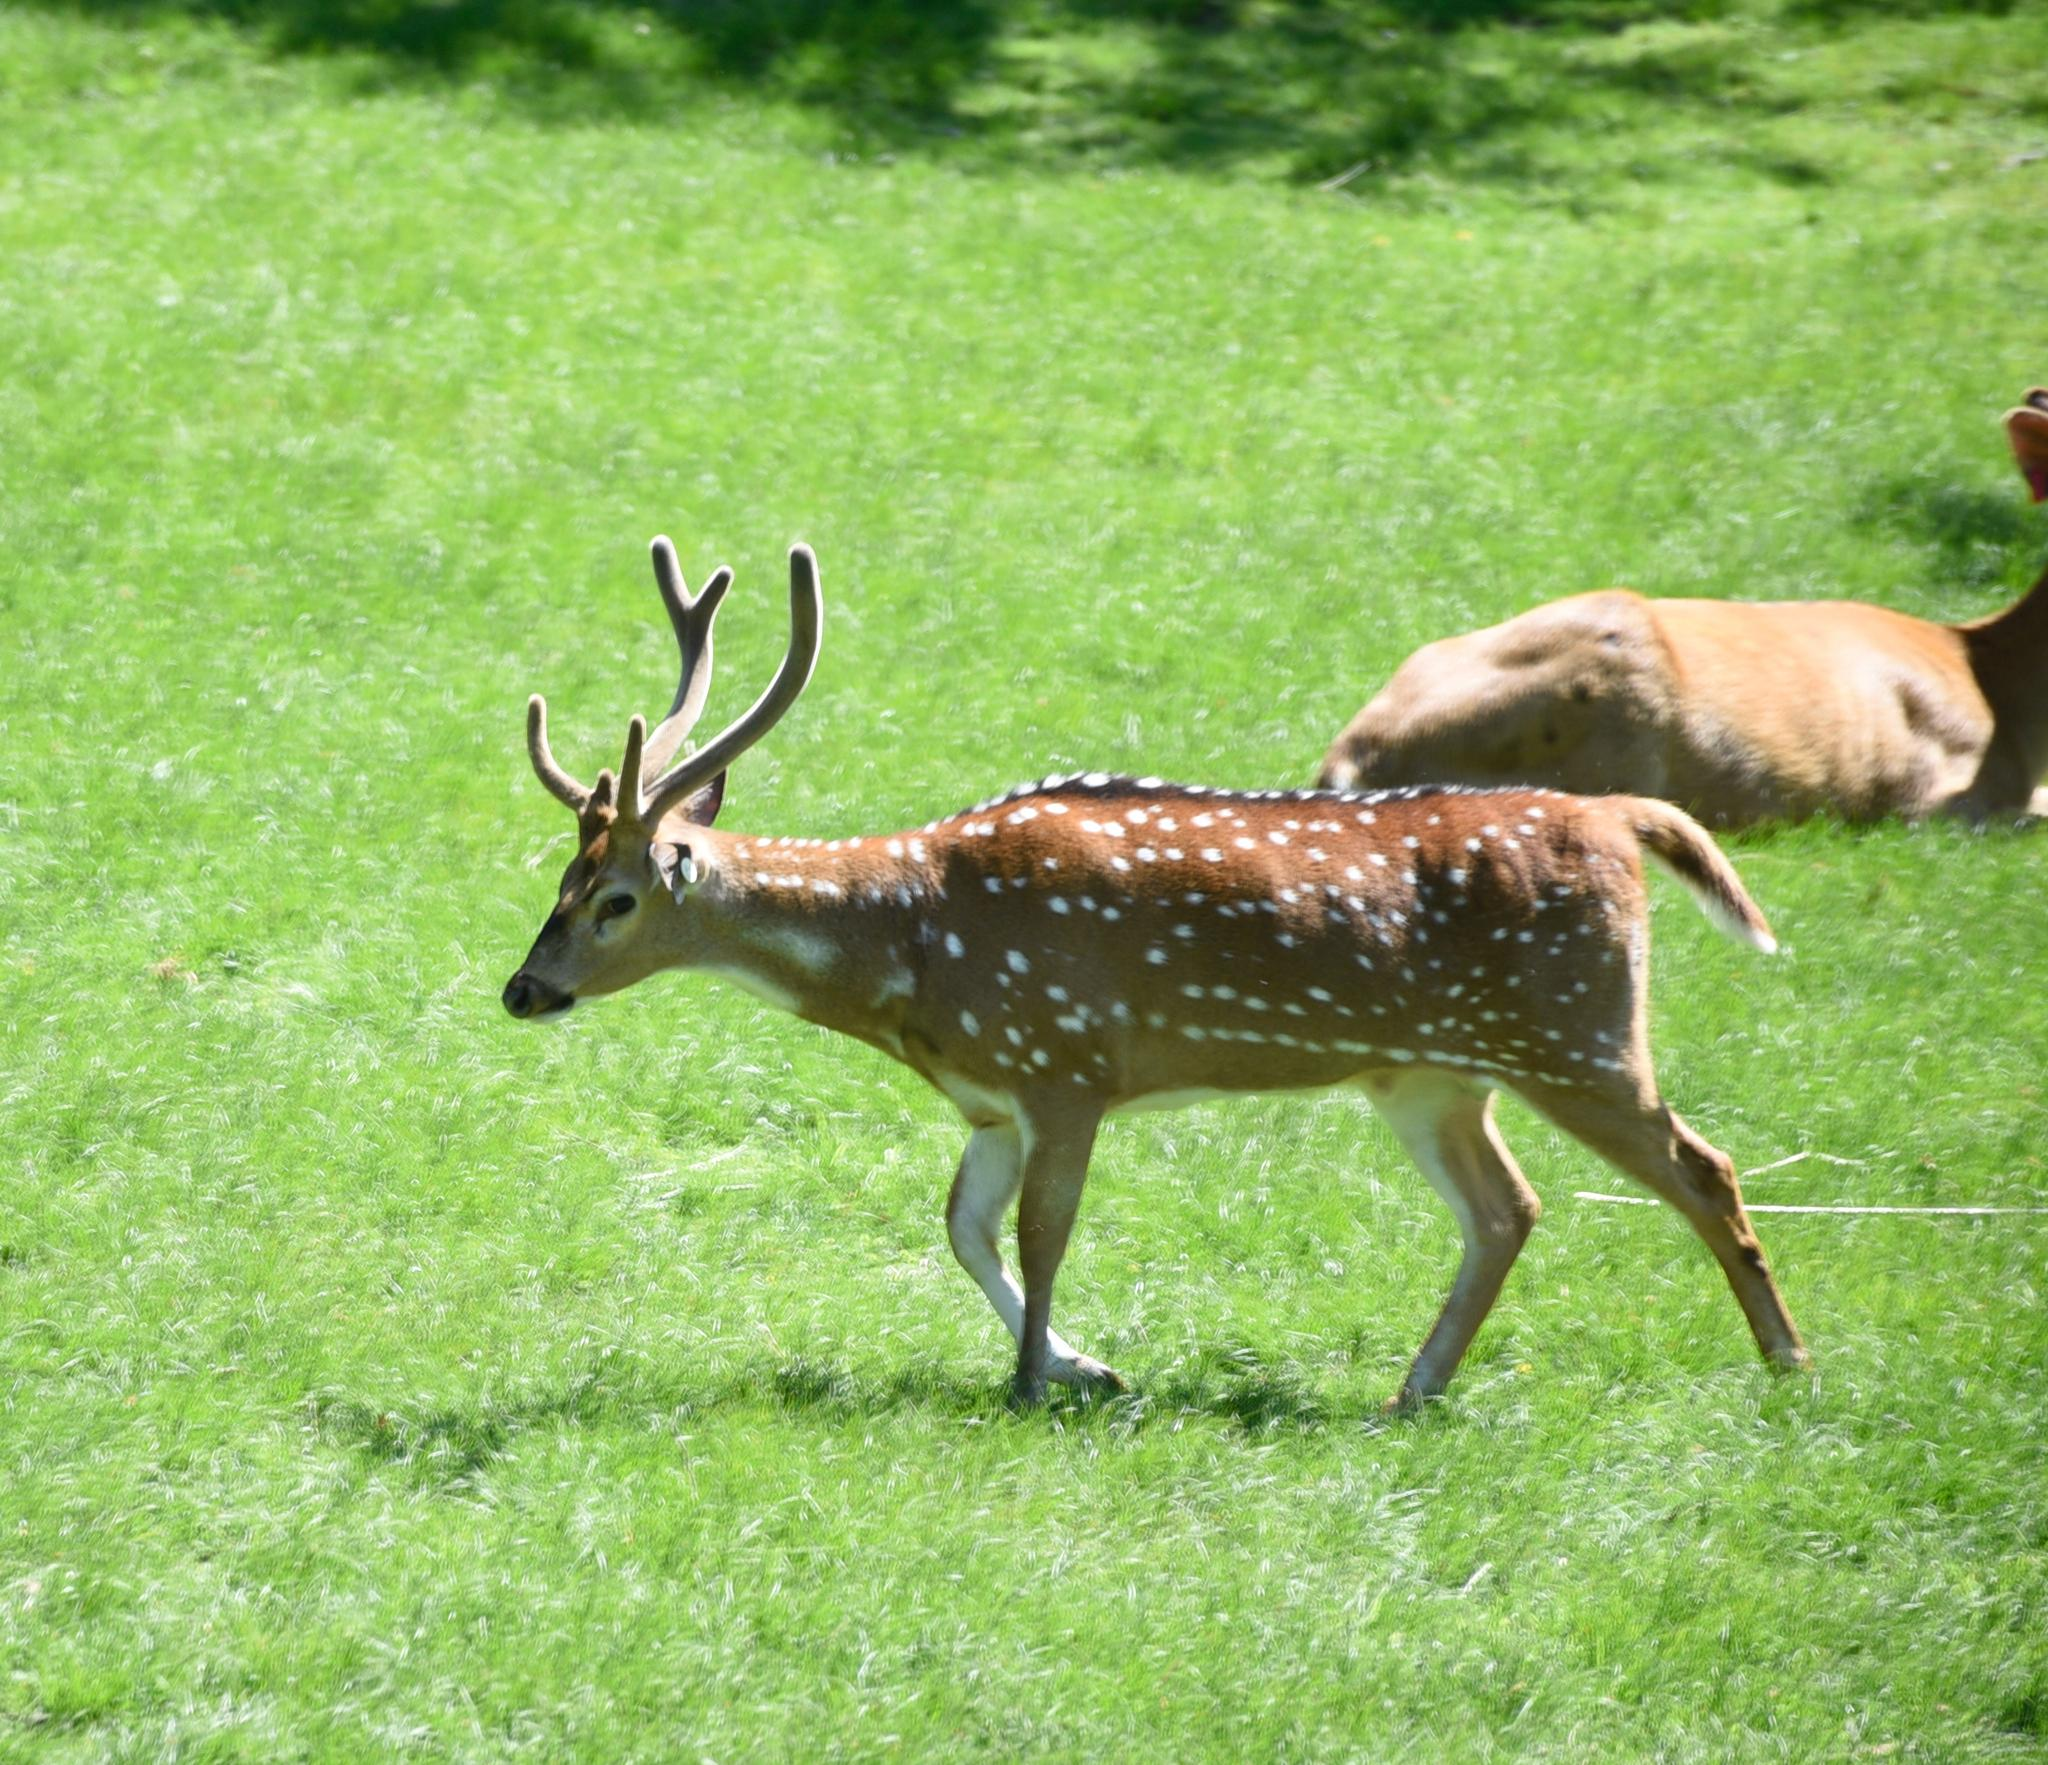Deer: (503, 537, 1804, 1411), (1317, 571, 2046, 828)
